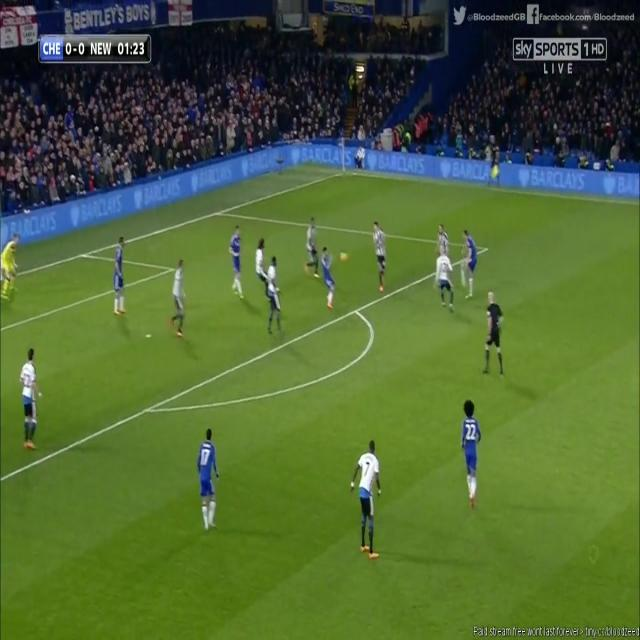Ball: (338, 247, 349, 267)
Goalkeeper: (1, 232, 22, 304)
Player: (348, 438, 382, 563), (17, 345, 45, 454), (197, 426, 221, 535), (460, 397, 482, 511), (458, 224, 480, 303), (266, 254, 286, 340), (167, 256, 186, 340), (371, 223, 392, 294), (228, 223, 246, 305), (434, 246, 456, 312), (110, 236, 126, 318), (320, 242, 339, 310), (302, 214, 322, 278), (255, 236, 268, 290), (435, 220, 450, 256)
Referee: (481, 287, 508, 381)
